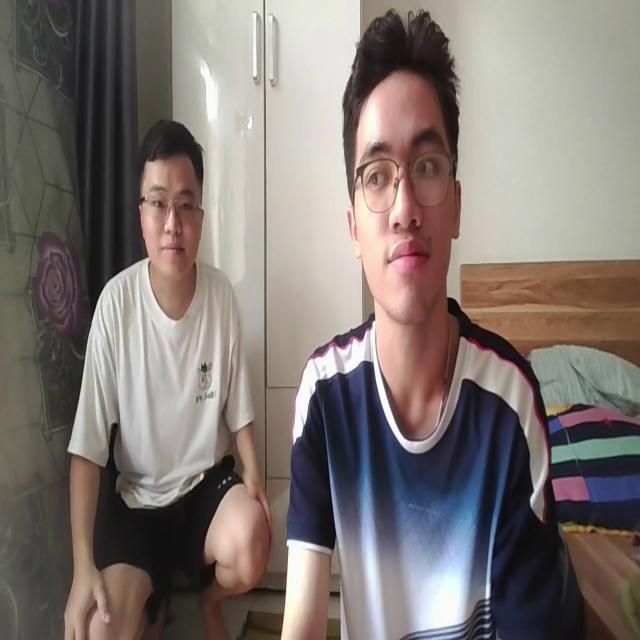extra_person: (54, 114, 274, 640)
student: (281, 6, 554, 640)
